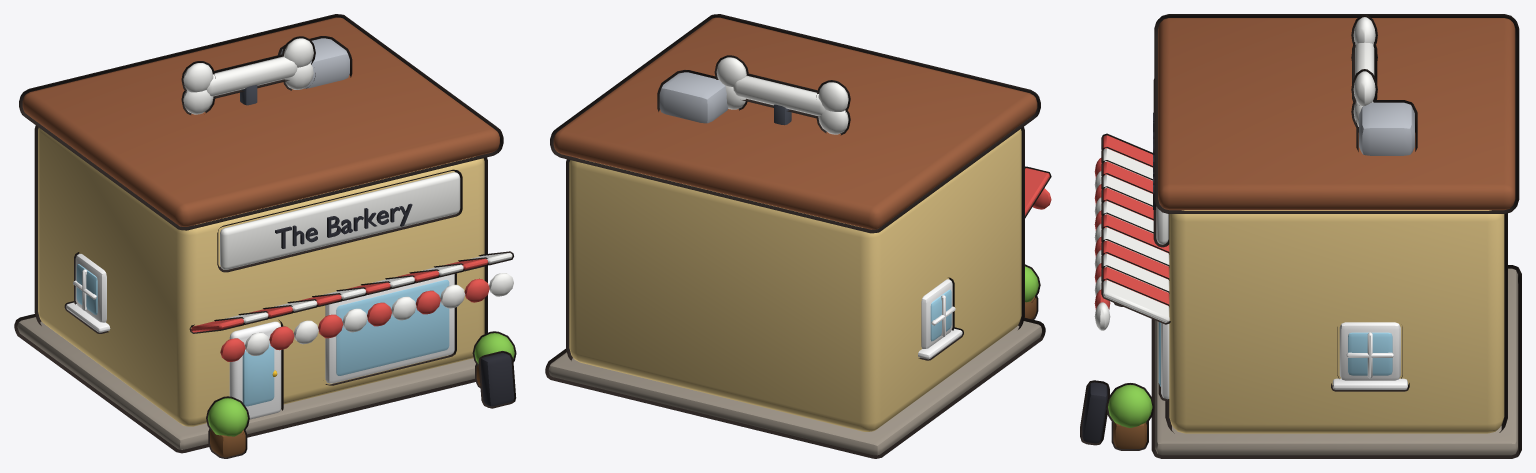
File: Shop_Barkery.fbx
3 renders of one model, left to right at view 1: azimuth 30°, elevation 25°; view 2: azimuth 150°, elevation 25°; view 3: azimuth 270°, elevation 25°, orthographic. The views are drawn at different scales.
Parts seen in each view (by area): view 1: BL_Shop_Barkery_WallYellow, BL_Shop_Barkery_RoofBrown, BL_Shop_Barkery_White, BL_Shop_Barkery_Outline, BL_Shop_Barkery_StoneDark, BL_Shop_Barkery_Window, BL_Shop_Barkery_Frame, BL_Shop_Barkery_Awning1, BL_Shop_Barkery_Black, BL_Shop_Barkery_Leaf2, BL_Shop_Barkery_MetalLight, BL_Shop_Barkery_WoodDark; view 2: BL_Shop_Barkery_WallYellow, BL_Shop_Barkery_RoofBrown, BL_Shop_Barkery_StoneDark, BL_Shop_Barkery_Outline, BL_Shop_Barkery_White, BL_Shop_Barkery_MetalLight, BL_Shop_Barkery_Frame, BL_Shop_Barkery_Awning1, BL_Shop_Barkery_Window; view 3: BL_Shop_Barkery_WallYellow, BL_Shop_Barkery_RoofBrown, BL_Shop_Barkery_Outline, BL_Shop_Barkery_StoneDark, BL_Shop_Barkery_White, BL_Shop_Barkery_Awning1, BL_Shop_Barkery_Frame, BL_Shop_Barkery_MetalLight, BL_Shop_Barkery_Window, BL_Shop_Barkery_Leaf2, BL_Shop_Barkery_Black, BL_Shop_Barkery_WoodDark.
Part boxes in pixels (x1,y1,x2,y2): BL_Shop_Barkery_WallYellow: (38,127,484,426); BL_Shop_Barkery_RoofBrown: (22,17,499,226); BL_Shop_Barkery_White: (183,38,513,355); BL_Shop_Barkery_Outline: (14,14,516,458); BL_Shop_Barkery_StoneDark: (17,317,475,449); BL_Shop_Barkery_Window: (76,264,449,406); BL_Shop_Barkery_Frame: (66,254,454,419); BL_Shop_Barkery_Awning1: (191,258,489,361); BL_Shop_Barkery_Black: (275,203,514,406); BL_Shop_Barkery_Leaf2: (207,333,514,436); BL_Shop_Barkery_MetalLight: (280,38,349,88); BL_Shop_Barkery_WoodDark: (210,364,480,457); BL_Shop_Barkery_WallYellow: (569,129,1021,431); BL_Shop_Barkery_RoofBrown: (553,17,1037,229); BL_Shop_Barkery_StoneDark: (548,321,1041,455); BL_Shop_Barkery_Outline: (545,14,1051,458); BL_Shop_Barkery_White: (716,57,848,134); BL_Shop_Barkery_MetalLight: (659,72,728,123); BL_Shop_Barkery_Frame: (918,279,962,359); BL_Shop_Barkery_Awning1: (1025,168,1051,215); BL_Shop_Barkery_Window: (930,289,951,341); BL_Shop_Barkery_WallYellow: (1169,210,1504,433); BL_Shop_Barkery_RoofBrown: (1158,18,1515,210); BL_Shop_Barkery_Outline: (1080,14,1521,458); BL_Shop_Barkery_StoneDark: (1155,268,1517,455); BL_Shop_Barkery_White: (1094,17,1375,330); BL_Shop_Barkery_Awning1: (1094,135,1169,309); BL_Shop_Barkery_Frame: (1161,322,1407,399); BL_Shop_Barkery_MetalLight: (1359,102,1414,155); BL_Shop_Barkery_Window: (1158,322,1392,386); BL_Shop_Barkery_Leaf2: (1108,384,1152,427); BL_Shop_Barkery_Black: (1082,112,1156,443); BL_Shop_Barkery_WoodDark: (1113,422,1146,448).
Bounding box in the file's own units: 7.64 × 6.51 × 7.92.
